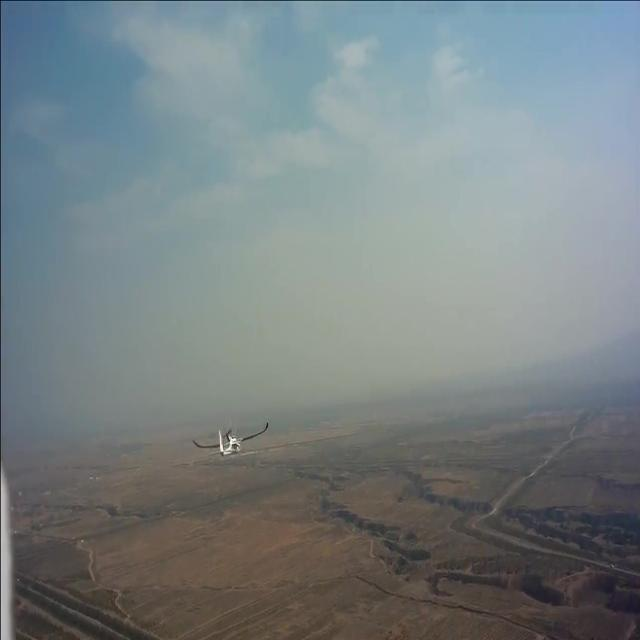iha: (228, 417, 234, 459)
